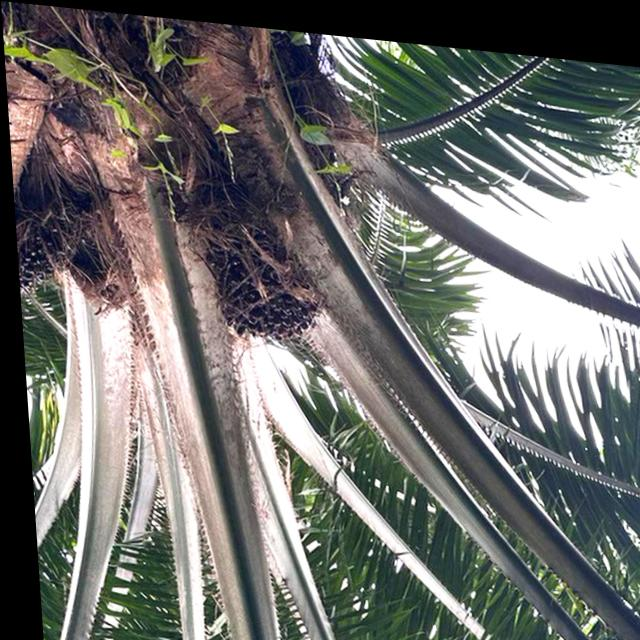ripe: (190, 231, 324, 355)
